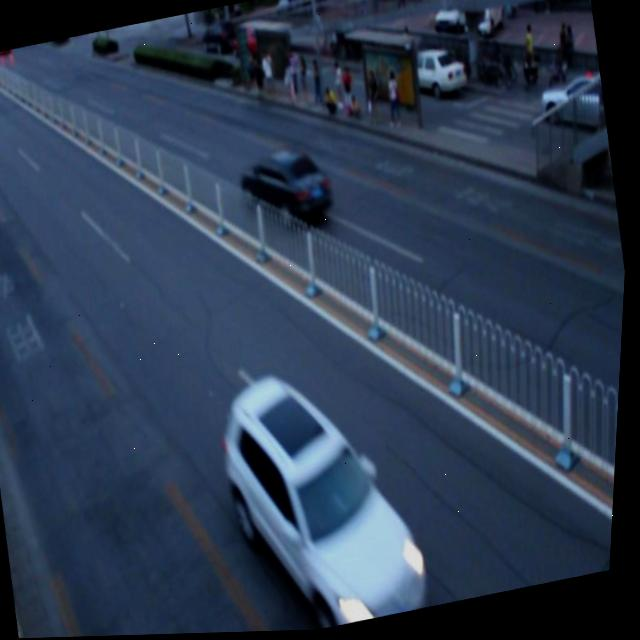car: (210, 354, 449, 635), (235, 140, 340, 232)
